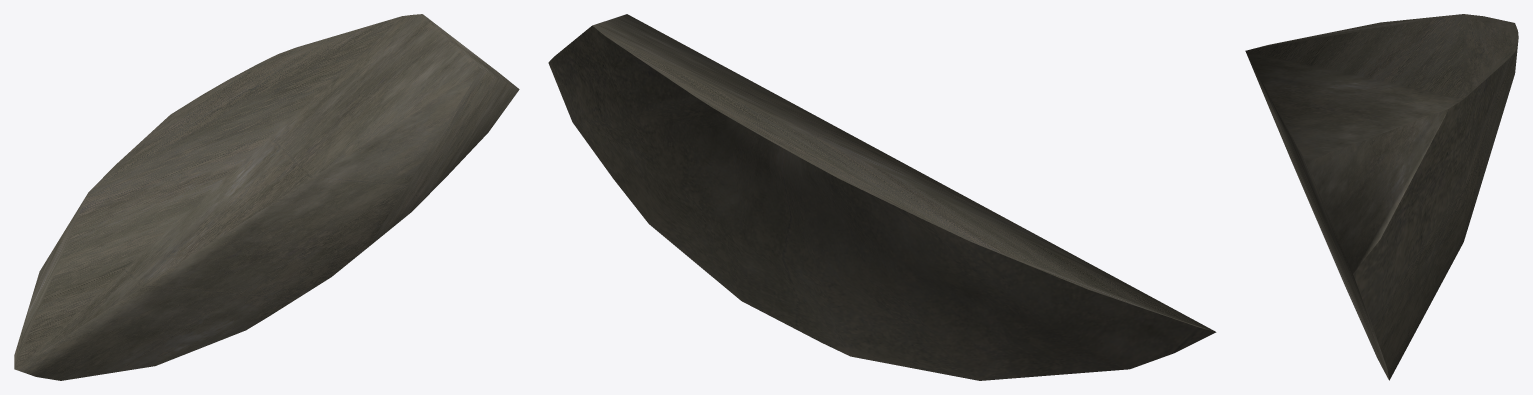
3 views of the same model, side by side, from view 1: azimuth 30°, elevation 25°; view 2: azimuth 150°, elevation 25°; view 3: azimuth 270°, elevation 25° (orthographic). The views are drawn at different scales.
Visible parts, largest first — view 1: Sphere_cell; view 2: Sphere_cell; view 3: Sphere_cell.
Boxes of the visible parts, bbox=[...] form: Sphere_cell: bbox=[14, 14, 519, 380]; Sphere_cell: bbox=[548, 14, 1216, 380]; Sphere_cell: bbox=[1245, 14, 1518, 380].
Size of the model in its own units: 2.52 by 1.14 by 0.6886.
1 material, 1 textured.
